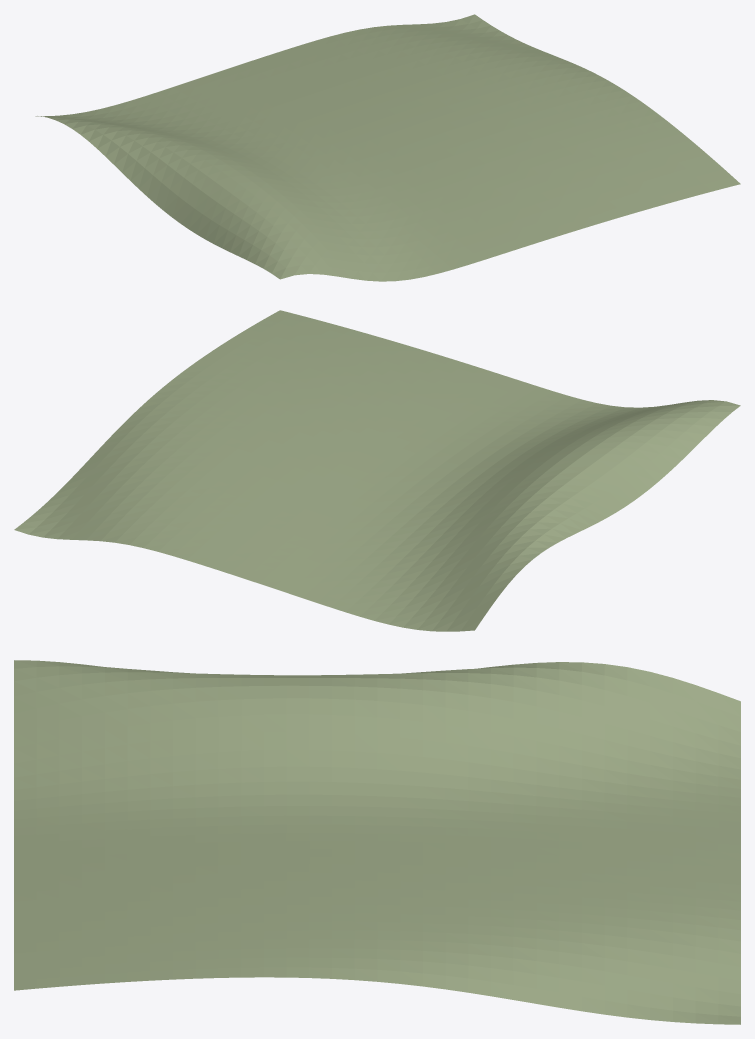
File: lunar-2-4.glb
3 renders of one model, top to bottom at view 1: azimuth 30°, elevation 25°; view 2: azimuth 150°, elevation 25°; view 3: azimuth 270°, elevation 25°, orthographic. The views are drawn at different scales.
Visible parts, largest first — view 1: lunar-2-4; view 2: lunar-2-4; view 3: lunar-2-4.
Boxes of the visible parts, x1=… form: lunar-2-4: x1=35, y1=14, x2=740, y2=281; lunar-2-4: x1=14, y1=310, x2=740, y2=631; lunar-2-4: x1=14, y1=660, x2=740, y2=1024.
Size of the model in its own units: 128 by 14.5 by 128.
